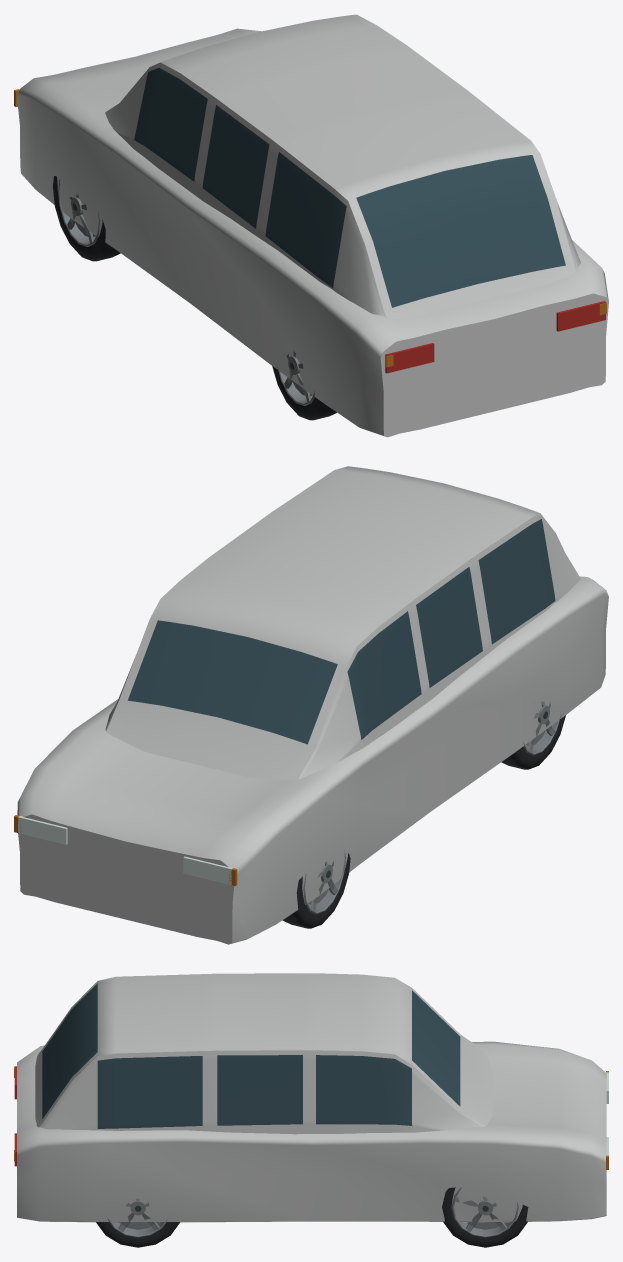
Rendered from summit-lod.glb.
3 views of the same model, one above another, from view 1: azimuth 30°, elevation 25°; view 2: azimuth 150°, elevation 25°; view 3: azimuth 270°, elevation 25° (orthographic). The views are drawn at different scales.
Parts seen in each view (by area): view 1: paint, glass, wheelSurface (×2), brake; view 2: paint, glass, wheelSurface (×2), head; view 3: paint, glass, wheelSurface (×2).
Boxes of the visible parts, x1,y1,x2,y2 form: paint: [17, 14, 608, 437]; glass: [134, 68, 565, 307]; wheelSurface (×2): [52, 176, 336, 420]; brake: [385, 301, 605, 373]; paint: [17, 466, 608, 944]; glass: [127, 519, 555, 744]; wheelSurface (×2): [282, 701, 565, 928]; head: [18, 816, 232, 885]; paint: [17, 973, 606, 1222]; glass: [42, 983, 460, 1128]; wheelSurface (×2): [96, 1187, 528, 1247].
Size of the model in its own units: 1.97 by 1.8 by 4.98.
